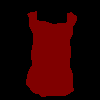canottiera: (26, 10, 77, 96)
